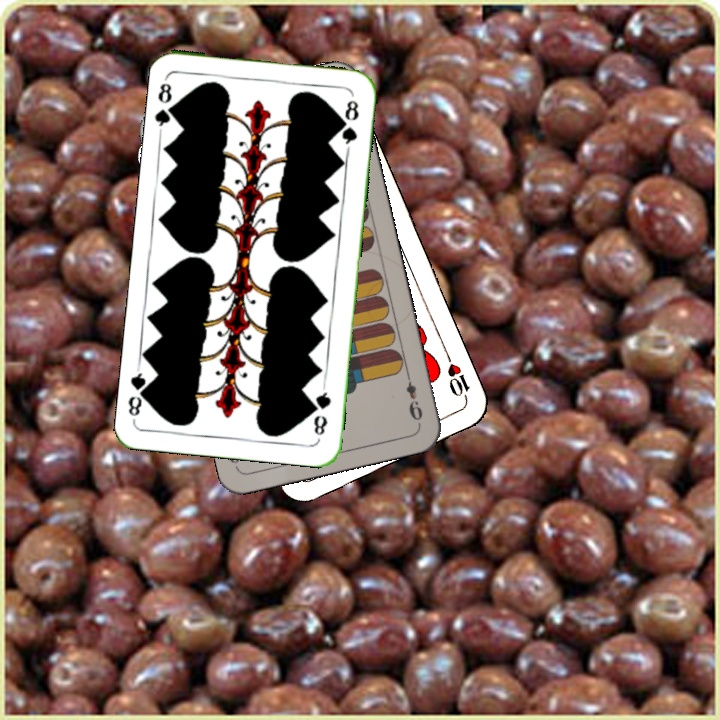E9: (402, 368, 425, 426)
G8: (152, 75, 181, 134), (309, 382, 333, 438)
H10: (441, 348, 472, 405)
